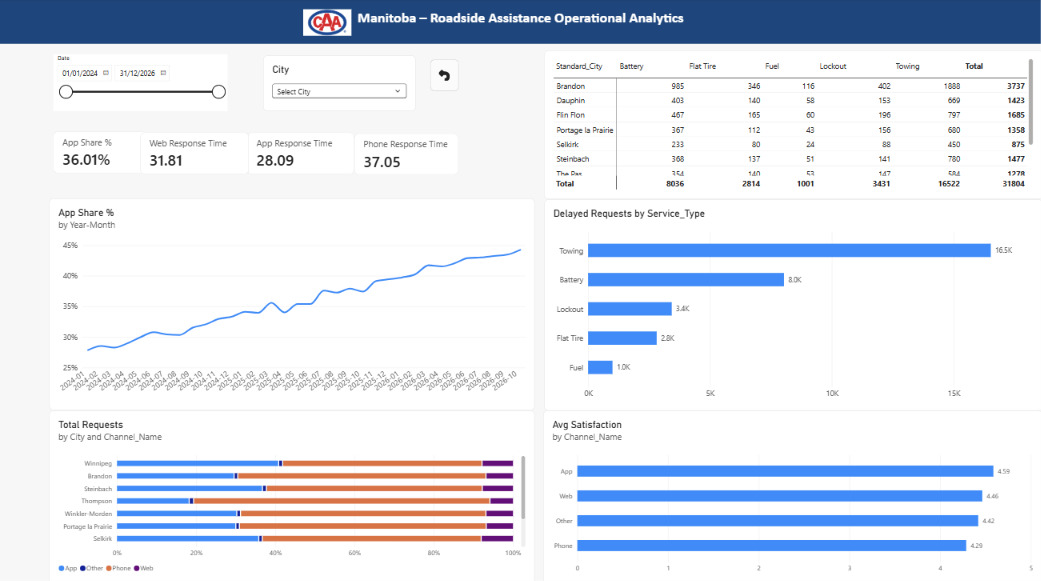

This screenshot's page, from the dashboard's own definition file:
{"tool":"powerbi","page":{"name":"Channel & Experience","canvas":[1920,1080],"ordinal":2},"visuals":[{"type":"listSlicer","fields":{"Values":["Location.City"]},"box":[486.8,105,281,102.4],"z":0},{"type":"shape","box":[0,0,1920.8,83.3],"z":1000},{"type":"textbox","box":[0,18.2,1919.5,93.8],"z":2000},{"type":"slicer","fields":{"Values":["Date.Date"]},"box":[98.8,103,320.8,103.9],"z":3000},{"type":"cardVisual","fields":{"Data":["_Measures.App Share %"]},"box":[100,245.2,171.4,77.9],"z":5000},{"type":"cardVisual","fields":{"Data":["_Measures.App Response Time"]},"box":[456,246.1,197.9,77.1],"z":6000},{"type":"cardVisual","fields":{"Data":["_Measures.Web Response Time"]},"box":[258.8,246.1,200,77.1],"z":7000},{"type":"cardVisual","fields":{"Data":["_Measures.Phone Response Time"]},"box":[653.3,247.9,192.5,76.1],"z":8000},{"type":"lineChart","fields":{"Category":["Date.Year-Month"],"Y":["_Measures.App Share %"]},"box":[91.7,368.8,893.8,389.6],"z":9000},{"type":"hundredPercentStackedBarChart","fields":{"Category":["Location.City"],"Series":["Channel.Channel_Name"],"Y":["_Measures.Total Requests"]},"box":[91.7,758.3,893.8,320.8],"z":10000},{"type":"clusteredBarChart","fields":{"Category":["Roadside Assistance.Service_Type"],"Y":["_Measures.Delayed Requests"]},"box":[1002.6,369.2,917.5,389.1],"z":11000},{"type":"clusteredBarChart","fields":{"Category":["Channel.Channel_Name"],"Y":["_Measures.Avg Satisfaction"]},"box":[1002.1,758.3,918.8,320.8],"z":12000},{"type":"image","box":[560,0,88.6,88.6],"z":14000},{"type":"actionButton","box":[793.9,112.2,52.8,58.3],"z":15000},{"type":"pivotTable","fields":{"Columns":["Roadside Assistance.Service_Type"],"Rows":["Roadside Assistance.Standard_City"],"Values":["_Measures.Delayed Requests"]},"box":[1002.6,95.9,917.5,273.3],"z":15001}]}

Visuals, with their boxes in screenshot pixels (x1, y1, x2, y2), scaled from the page's 1920x1080 canvas onto the 1041x581 screenshot:
listSlicer - Location.City: (x1=264, y1=56, x2=416, y2=112)
shape: (x1=0, y1=0, x2=1040, y2=45)
textbox: (x1=0, y1=10, x2=1040, y2=60)
slicer - Date.Date: (x1=54, y1=55, x2=228, y2=111)
cardVisual - _Measures.App Share %: (x1=54, y1=132, x2=147, y2=174)
cardVisual - _Measures.App Response Time: (x1=247, y1=132, x2=355, y2=174)
cardVisual - _Measures.Web Response Time: (x1=140, y1=132, x2=249, y2=174)
cardVisual - _Measures.Phone Response Time: (x1=354, y1=133, x2=459, y2=174)
lineChart - Date.Year-Month x _Measures.App Share %: (x1=50, y1=198, x2=534, y2=408)
hundredPercentStackedBarChart - Location.City x Channel.Channel_Name: (x1=50, y1=408, x2=534, y2=580)
clusteredBarChart - Roadside Assistance.Service_Type x _Measures.Delayed Requests: (x1=544, y1=199, x2=1040, y2=408)
clusteredBarChart - Channel.Channel_Name x _Measures.Avg Satisfaction: (x1=543, y1=408, x2=1040, y2=580)
image: (x1=304, y1=0, x2=352, y2=48)
actionButton: (x1=430, y1=60, x2=459, y2=92)
pivotTable - Roadside Assistance.Service_Type x Roadside Assistance.Standard_City: (x1=544, y1=52, x2=1040, y2=199)
